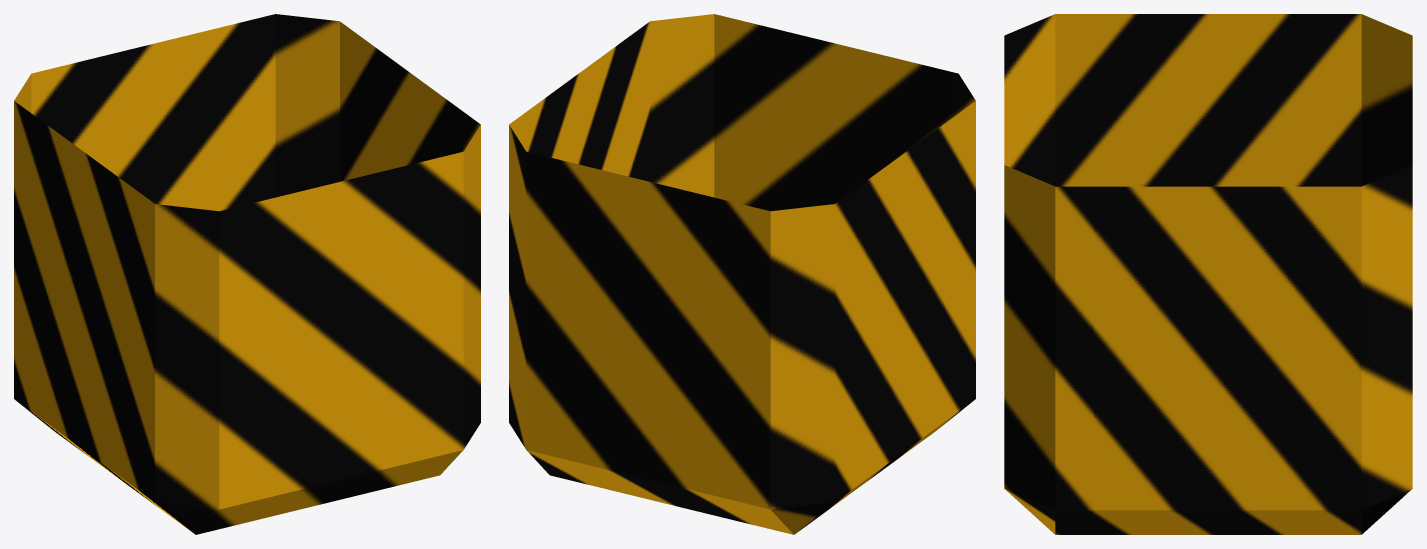
Rendered from Bevel_1.fbx.
3 views of the same model, side by side, from view 1: azimuth 30°, elevation 25°; view 2: azimuth 150°, elevation 25°; view 3: azimuth 270°, elevation 25° (orthographic). The views are drawn at different scales.
Parts seen in each view (by area): view 1: Bevel_1; view 2: Bevel_1; view 3: Bevel_1.
Part boxes in pixels (x1=…): Bevel_1: x1=14, y1=14, x2=480, y2=534; Bevel_1: x1=509, y1=14, x2=975, y2=534; Bevel_1: x1=1004, y1=14, x2=1412, y2=534.
Size of the model in its own units: 10000 by 10000 by 10000.
